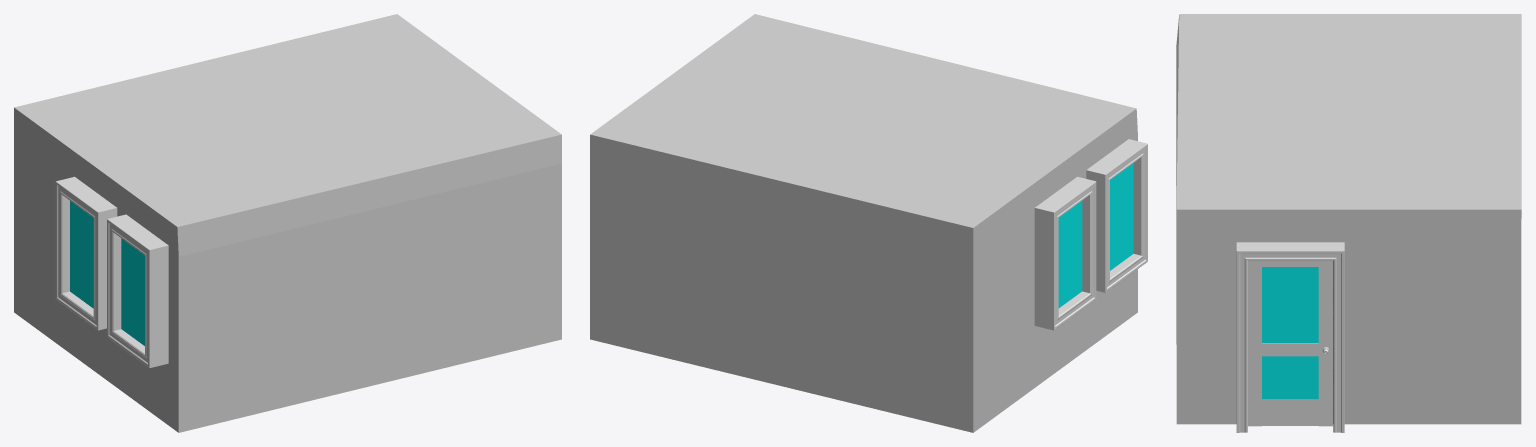
Rendered from RoomPlane.fbx.
The picture shows the model from 3 angles, left to right: view 1: azimuth 30°, elevation 25°; view 2: azimuth 150°, elevation 25°; view 3: azimuth 270°, elevation 25°; orthographic projection. The views are drawn at different scales.
Visible parts, largest first — view 1: Room, SM_WindowFrame.001, SM_WindowFrame.000; view 2: Room, SM_WindowFrame.000, SM_WindowFrame.001; view 3: Room, SM_Door, SM_DoorFrame.
Part boxes in pixels (x1,y1,x2,y2): Room: (14,14,561,432); SM_WindowFrame.001: (107,214,168,367); SM_WindowFrame.000: (55,176,117,330); Room: (590,14,1137,432); SM_WindowFrame.000: (1034,176,1096,330); SM_WindowFrame.001: (1086,139,1147,292); Room: (1176,14,1521,424); SM_Door: (1248,260,1332,426); SM_DoorFrame: (1236,242,1344,432).
Size of the model in its own units: 536 by 250 by 364.
